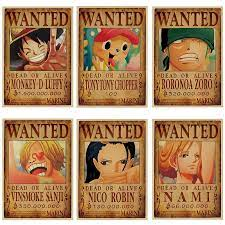chopper: (84, 28, 139, 70)
luffy: (10, 28, 66, 70)
